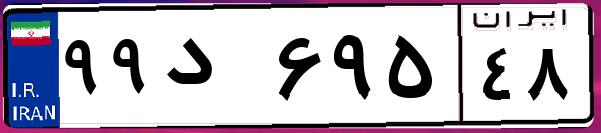4: (475, 38, 525, 113)
5: (385, 28, 445, 110)
6: (270, 28, 330, 110)
8: (525, 38, 570, 115)
9: (330, 28, 385, 110), (57, 26, 110, 100), (110, 28, 158, 98)
د: (158, 20, 270, 120)
